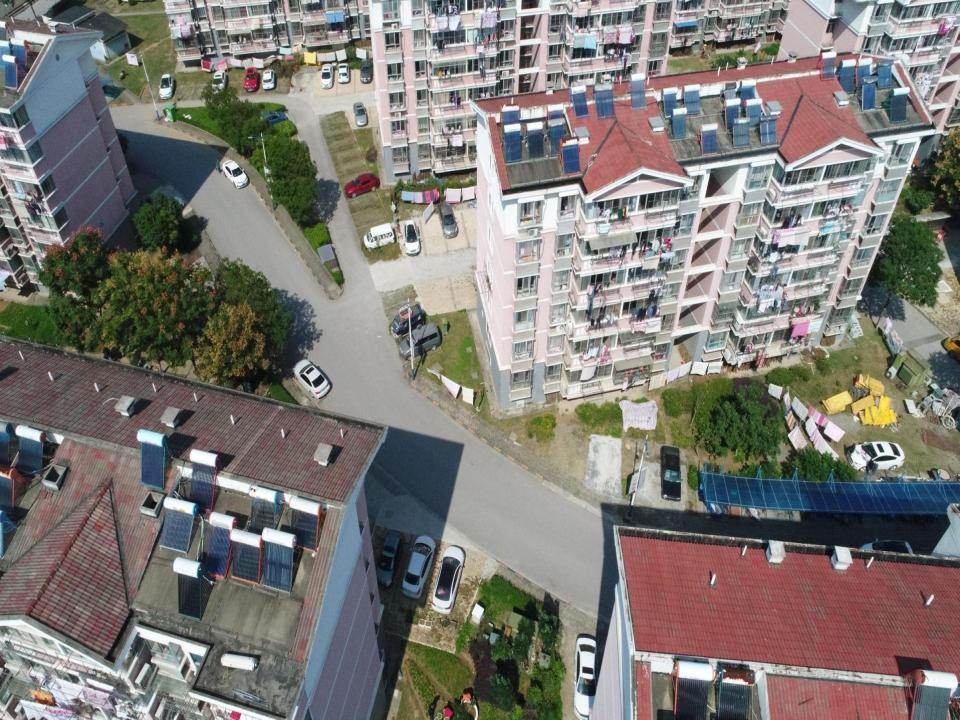car: (431, 546, 472, 614), (400, 535, 440, 600), (574, 638, 599, 720), (846, 439, 905, 473), (376, 530, 405, 590), (292, 358, 330, 402), (660, 445, 681, 502), (859, 536, 914, 556), (344, 173, 381, 198), (222, 160, 249, 189), (439, 200, 458, 239), (159, 69, 174, 99), (259, 110, 287, 126), (212, 68, 227, 97), (243, 66, 259, 93), (352, 102, 368, 126), (321, 63, 333, 89), (360, 58, 372, 84), (262, 68, 275, 91), (337, 62, 350, 84)
van: (396, 322, 440, 360), (390, 303, 425, 339), (363, 223, 395, 253), (402, 220, 421, 256)
